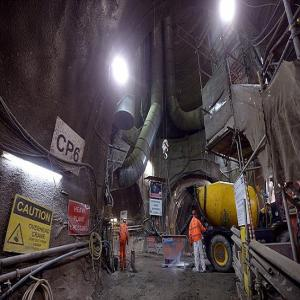red: (193, 210, 197, 219)
white: (123, 217, 128, 225)
